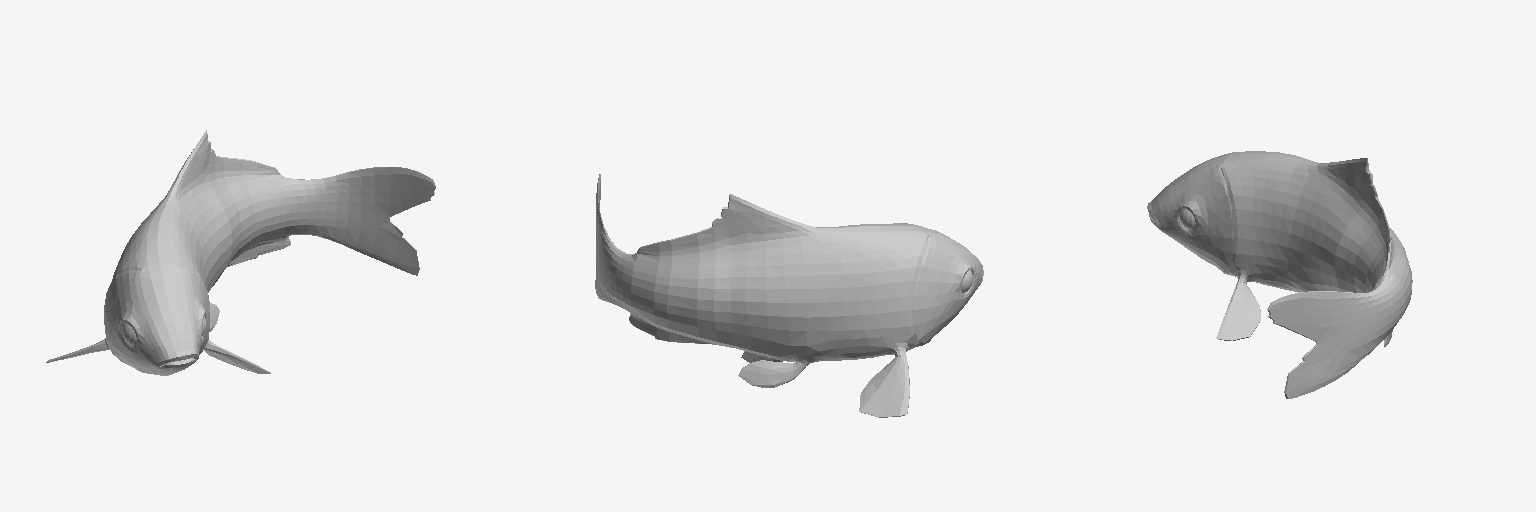
Rendered from TB1dIkCRVXXXXa_XFXXXXXXXXXX.obj.
The picture shows the model from 3 angles: view 1: azimuth 30°, elevation 25°; view 2: azimuth 150°, elevation 25°; view 3: azimuth 270°, elevation 25°; orthographic projection.
Visible parts, largest first — view 1: carp:Mesh group; view 2: carp:Mesh group; view 3: carp:Mesh group.
Boxes of the visible parts, x1,y1,x2,y2 form: carp:Mesh group: [46, 130, 435, 375]; carp:Mesh group: [595, 174, 983, 417]; carp:Mesh group: [1147, 151, 1412, 398].
Size of the model in its own units: 10037 by 5255 by 6604.